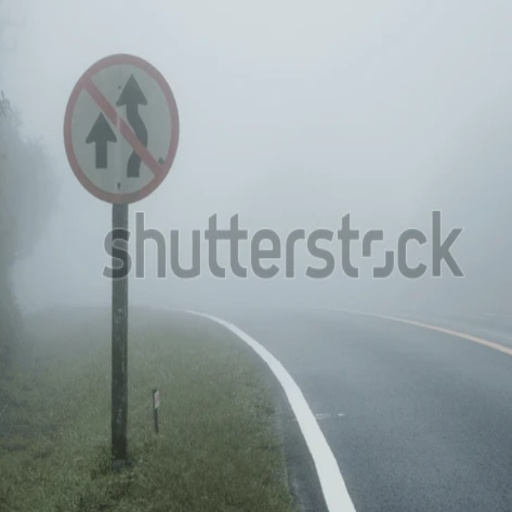No overtake from right: (52, 42, 184, 206)
